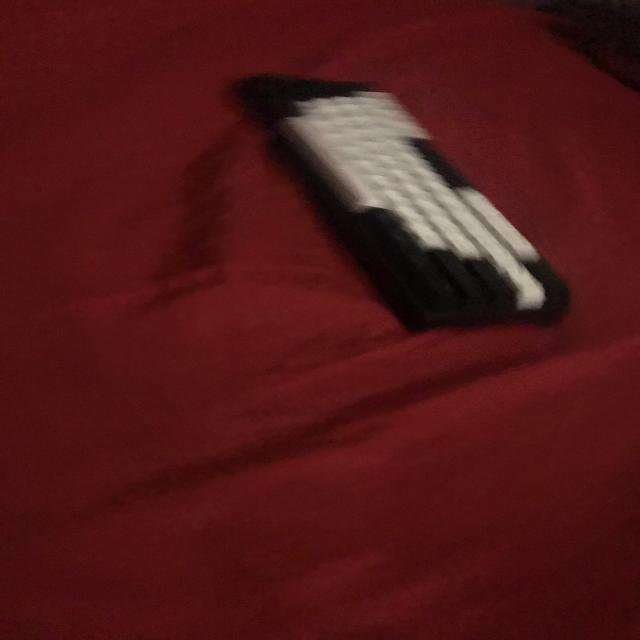-mouse-: (231, 74, 577, 328)
